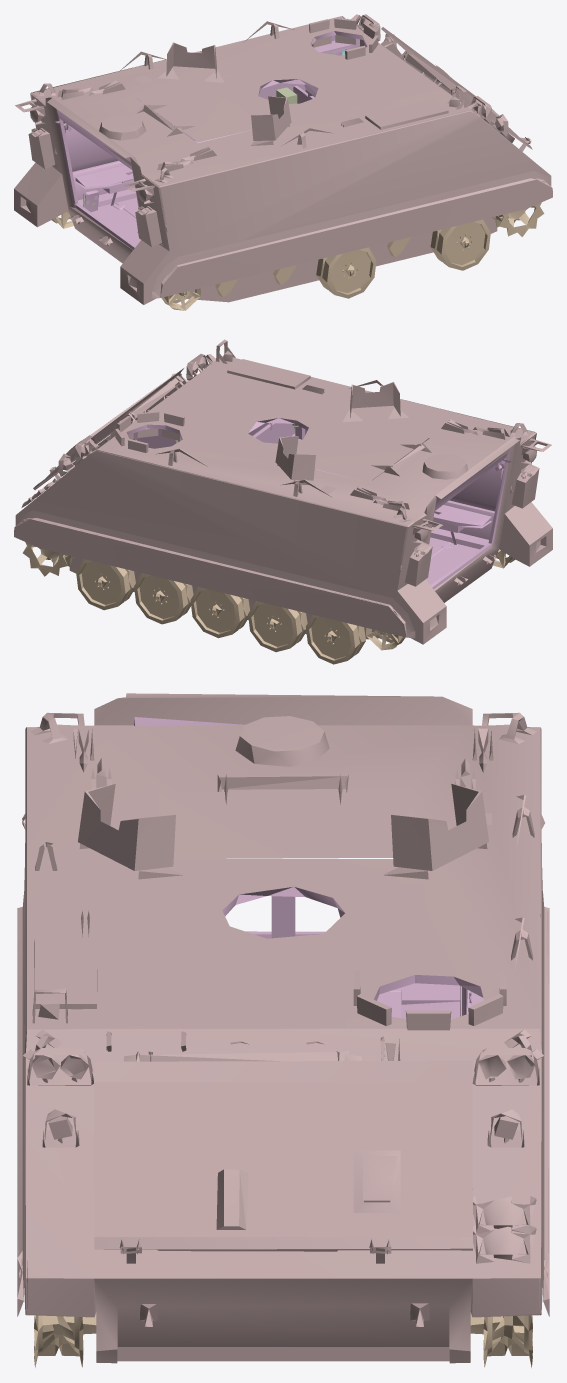
File: M113 Wreck.fbx
3 views of the same model, one above another, from view 1: azimuth 30°, elevation 25°; view 2: azimuth 150°, elevation 25°; view 3: azimuth 270°, elevation 25° (orthographic). The views are drawn at different scales.
Visible parts, largest first — view 1: Body; view 2: Body; view 3: Body.
Boxes of the visible parts, x1,y1,x2,y2 form: Body: (14, 14, 552, 310); Body: (14, 339, 552, 664); Body: (17, 693, 549, 1367).
Bounding box in the file's own units: 520 × 227 × 287.
